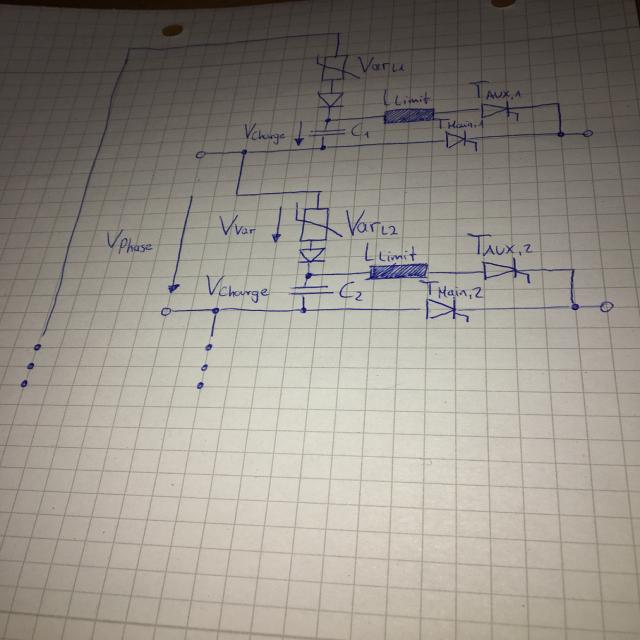capacitor: (287, 284, 335, 297), (306, 128, 346, 138)
diode: (296, 246, 328, 263), (315, 90, 345, 108)
inductor: (363, 262, 429, 280), (381, 107, 438, 124)
junction: (209, 306, 223, 315), (567, 302, 582, 310), (297, 305, 310, 314), (303, 272, 316, 280), (555, 130, 566, 138), (239, 148, 249, 155), (322, 116, 332, 123), (318, 144, 329, 150), (334, 30, 342, 36), (125, 45, 133, 51), (568, 266, 576, 272), (315, 189, 324, 194), (554, 101, 562, 106), (233, 192, 239, 197)
terminal: (32, 333, 46, 351), (597, 299, 615, 313), (202, 334, 214, 352), (158, 305, 177, 316), (580, 128, 594, 138), (194, 149, 208, 159)
text: (204, 273, 270, 304), (464, 231, 534, 256), (344, 208, 398, 236), (417, 278, 485, 300), (104, 227, 154, 255), (363, 240, 417, 262), (466, 79, 522, 100), (241, 122, 286, 145), (381, 88, 431, 106), (356, 54, 405, 72), (216, 214, 256, 236), (432, 117, 485, 129), (337, 280, 365, 301), (350, 121, 370, 139)
thyristor: (418, 296, 471, 322), (480, 256, 530, 281), (476, 100, 520, 118), (442, 129, 478, 149)
